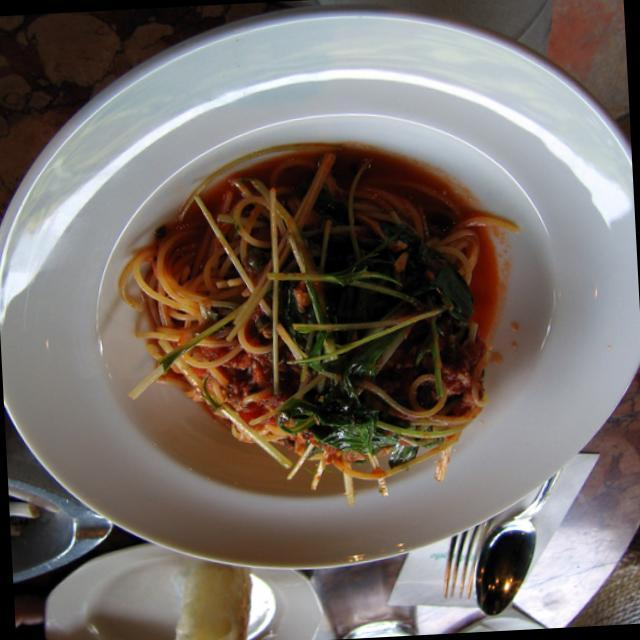Pasta: (120, 152, 501, 507)
